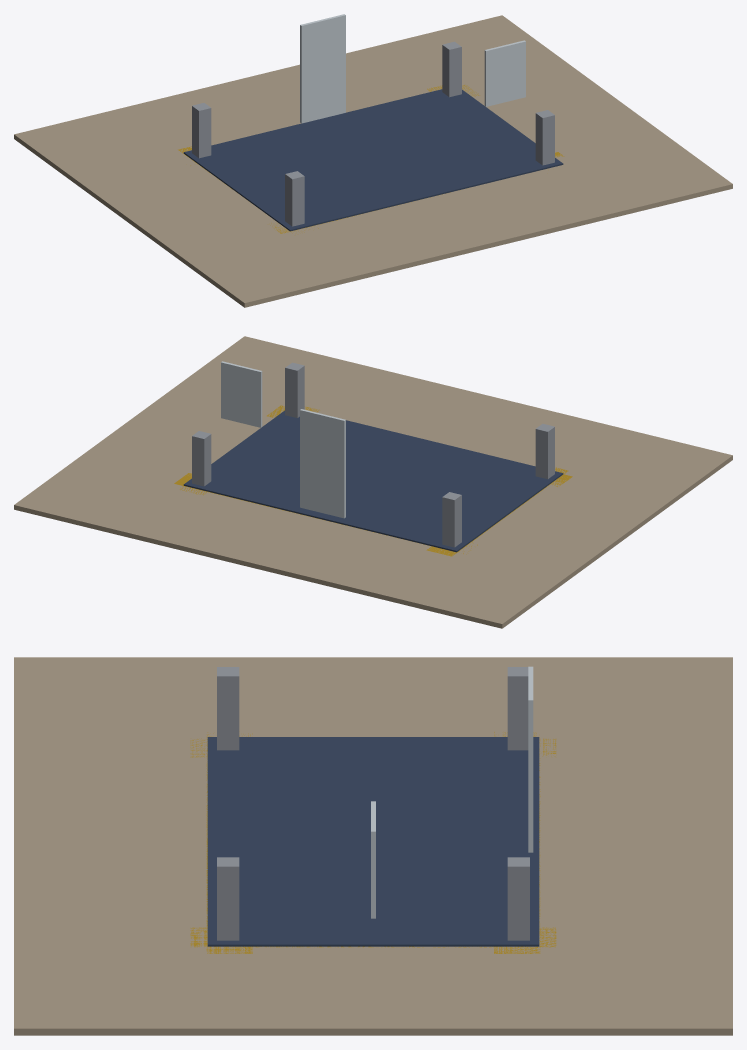
The model's file is stage_07_openings.glb.
3 views of the same model, one above another, from view 1: azimuth 30°, elevation 25°; view 2: azimuth 150°, elevation 25°; view 3: azimuth 270°, elevation 25° (orthographic). The views are drawn at different scales.
Parts seen in each view (by area): view 1: world; view 2: world; view 3: world.
Boxes of the visible parts, x1,y1,x2,y2 form: world: (14,14,732,307); world: (14,336,732,628); world: (14,657,732,1035).
Size of the model in its own units: 11 by 3 by 9.
